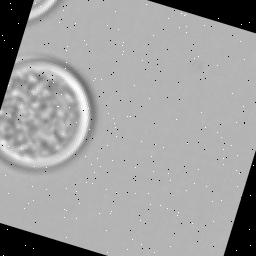picoshell: (0, 53, 95, 169), (27, 0, 60, 22)
